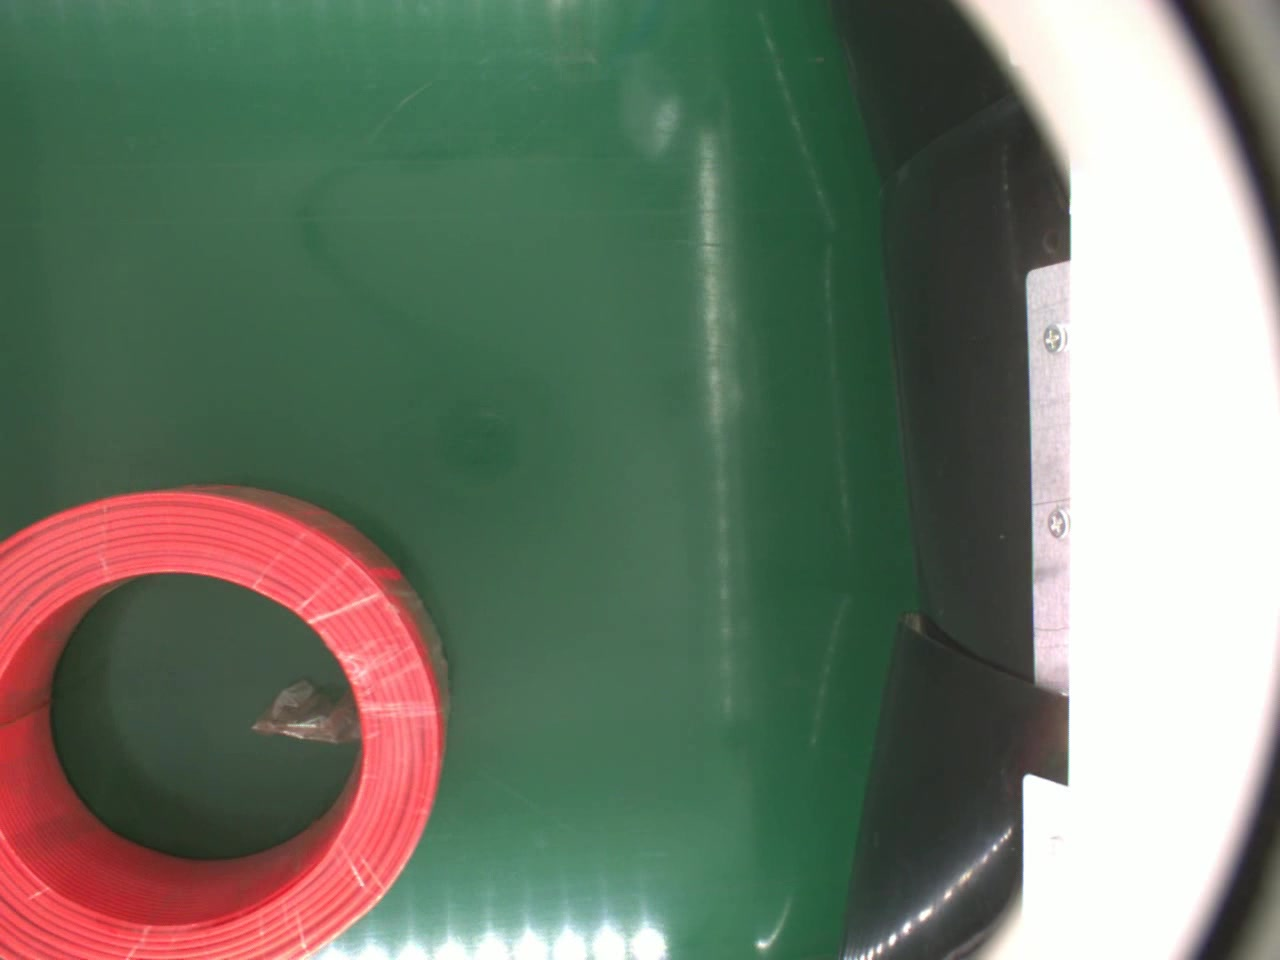red: (0, 480, 457, 960)
